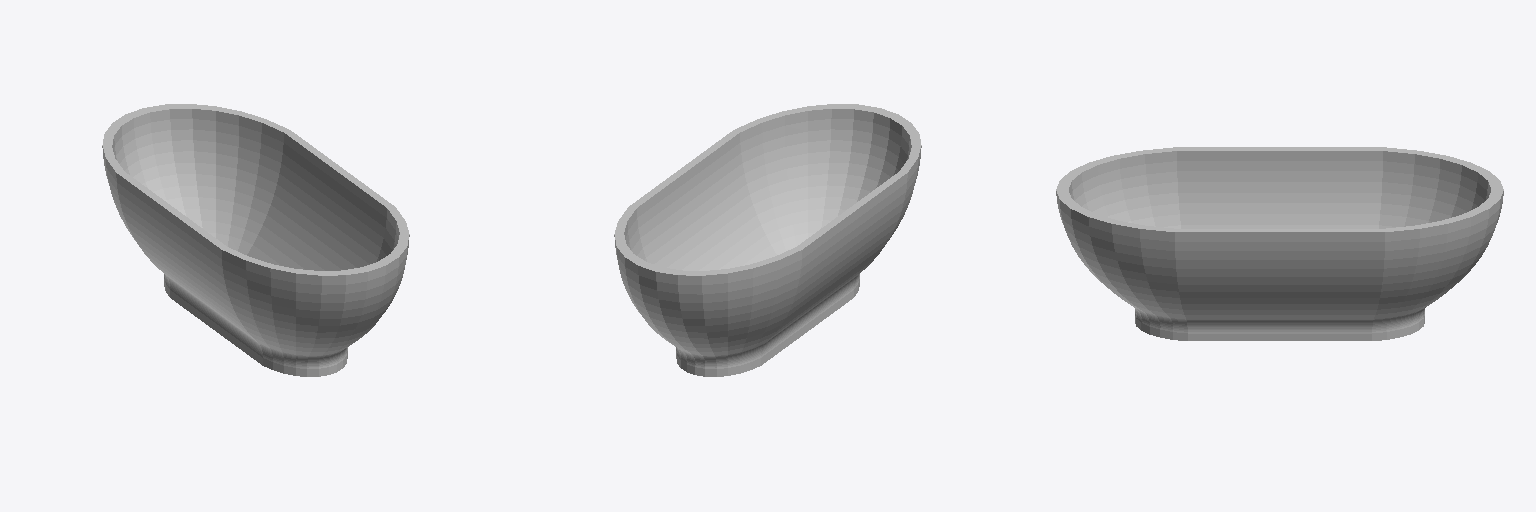
File: KARUNA BLANCA.obj
The picture shows the model from 3 angles: view 1: azimuth 30°, elevation 25°; view 2: azimuth 150°, elevation 25°; view 3: azimuth 270°, elevation 25°; orthographic projection.
Parts seen in each view (by area): view 1: Mesh1 Group1 Model; view 2: Mesh1 Group1 Model; view 3: Mesh1 Group1 Model.
Part boxes in pixels (bbox=[...]): Mesh1 Group1 Model: bbox=[102, 104, 409, 376]; Mesh1 Group1 Model: bbox=[614, 104, 921, 376]; Mesh1 Group1 Model: bbox=[1056, 147, 1503, 340].
Size of the model in its own units: 80 by 58 by 178.